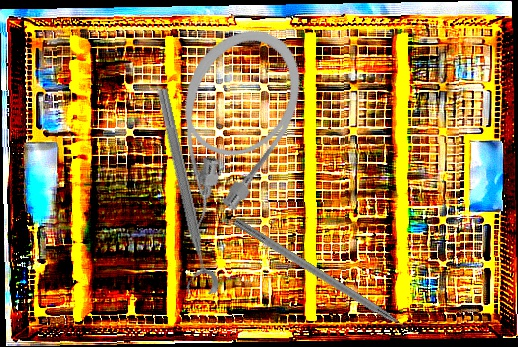Cannula: (134, 12, 321, 244)
Fixation Ring: (139, 86, 221, 300)
Hook Surgical: (231, 217, 424, 344)
